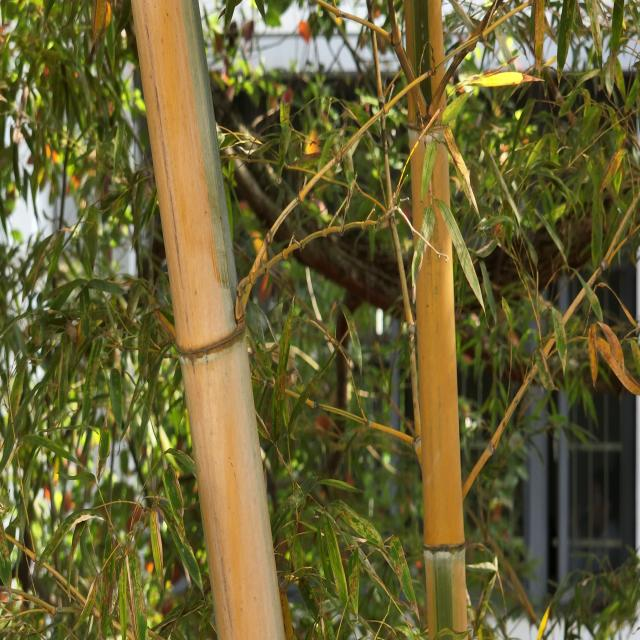Bamboo-shoots: (131, 0, 285, 640), (404, 0, 468, 640)
